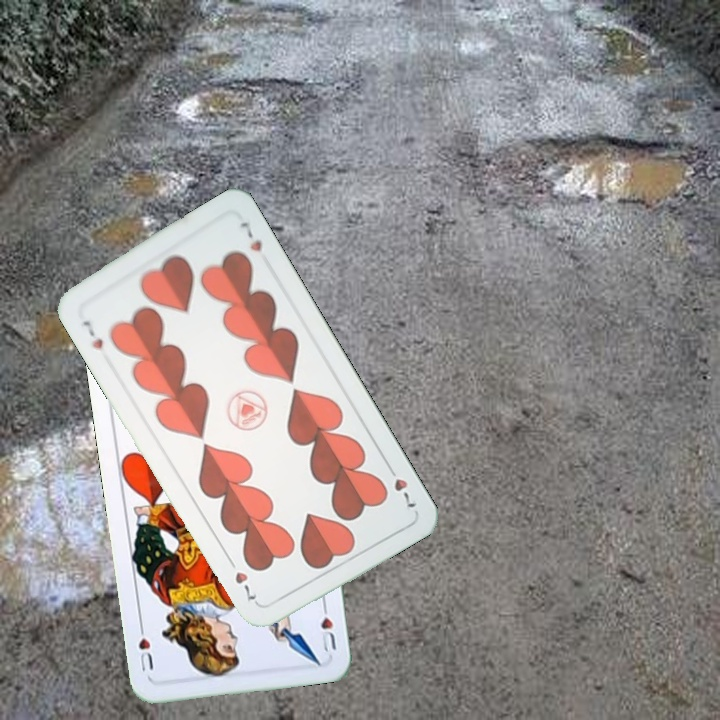H7: (382, 460, 419, 511), (78, 316, 106, 352)
HU: (317, 597, 339, 656)
